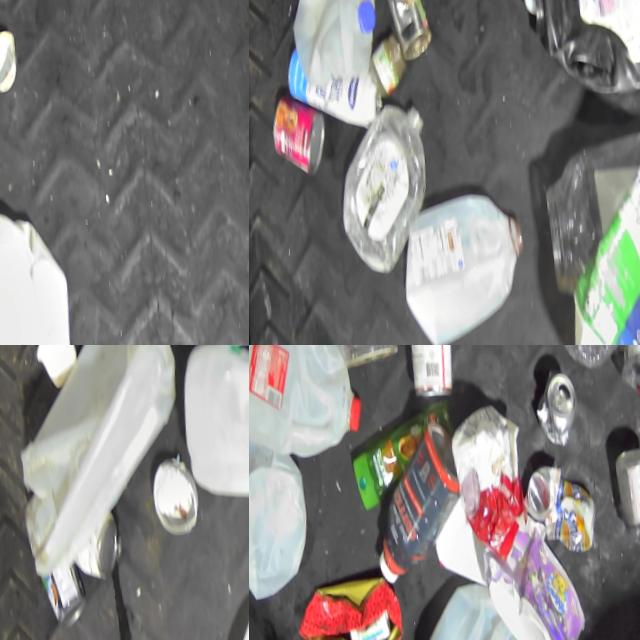can: (266, 92, 330, 181), (66, 504, 125, 583), (30, 559, 89, 637), (375, 0, 439, 70), (536, 490, 591, 567), (396, 345, 455, 412), (530, 374, 575, 455)
milk_jug: (0, 345, 187, 577), (392, 186, 528, 345), (551, 157, 640, 345), (249, 345, 357, 469), (175, 345, 249, 515), (0, 214, 77, 345), (249, 424, 304, 605), (283, 0, 378, 87)
non_white_jug: (513, 0, 640, 113)
plastic_bottle: (331, 103, 440, 286)
